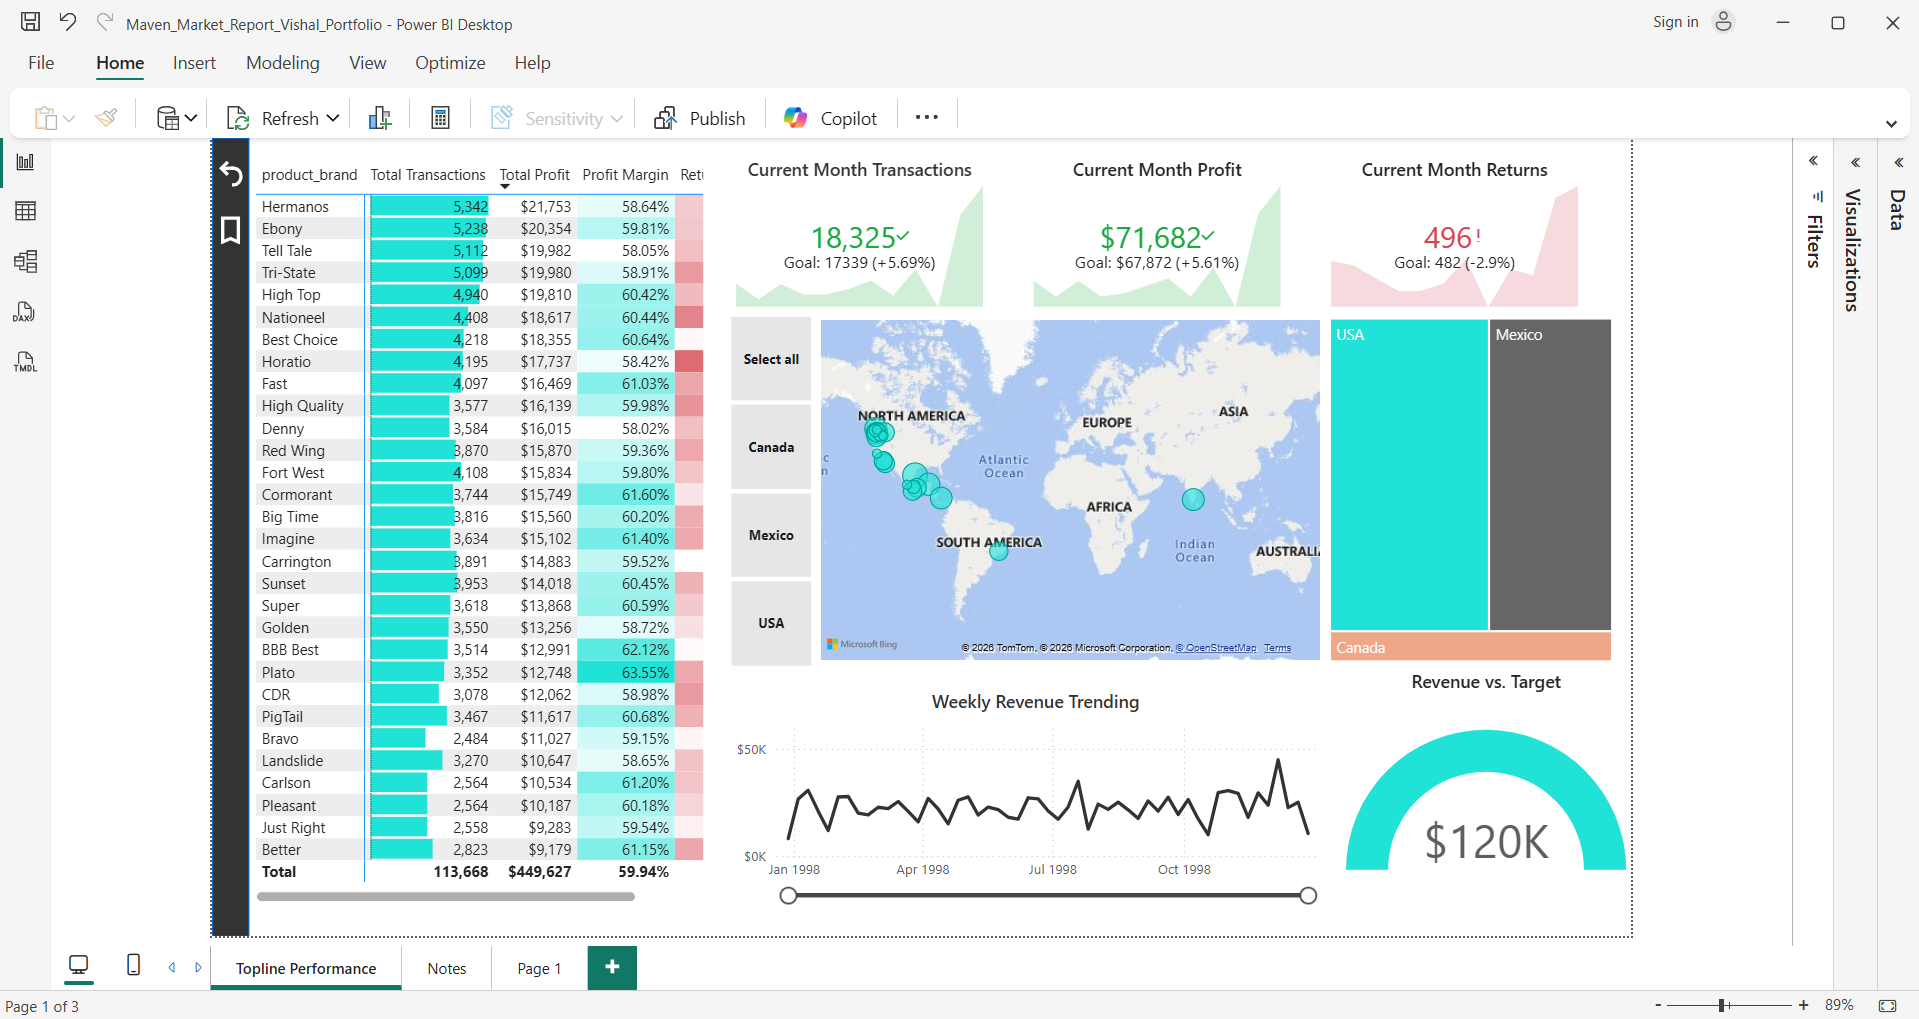

What the dashboard file says about the page in this screenshot:
{"tool":"powerbi","page":{"name":"Topline Performance","canvas":[1280,720],"ordinal":0},"visuals":[{"type":"pivotTable","fields":{"Rows":["Products.product_brand"],"Values":["Measure Table.Total Transactions","Measure Table.Total Profit","Measure Table.Profit Margin","Measure Table.Return Rate"]},"box":[34.8,17.4,413,676.7],"z":1000},{"type":"kpi","title":"Current Month Transactions","fields":{"Goal":["Measure Table.Last Month Transactions"],"Indicator":["Measure Table.Total Transactions"],"TrendLine":["Calendar.Start of Month"]},"box":[467.7,17.4,232.6,140.6],"z":2000},{"type":"kpi","title":"Current Month Profit","fields":{"Goal":["Measure Table.Last Month Profit"],"Indicator":["Measure Table.Total Profit"],"TrendLine":["Calendar.Start of Month"]},"box":[735.8,17.4,232.6,140.6],"z":3000},{"type":"kpi","title":"Current Month Returns","fields":{"Goal":["Measure Table.Last Month Returns"],"Indicator":["Measure Table.Total Returns"],"TrendLine":["Calendar.Start of Month"]},"box":[1003.9,17.4,232.6,140.6],"z":4000},{"type":"map","fields":{"Category":["Stores.store_city"],"Size":["Measure Table.Total Transactions"]},"box":[544.9,159.2,459,317.2],"z":5000},{"type":"slicer","fields":{"Values":["Stores.store_country"]},"box":[447.8,159.2,112,318.5],"z":6000},{"type":"treemap","fields":{"Group":["Stores.store_country","Stores.store_state","Stores.store_city"],"Values":["Measure Table.Total Transactions"]},"box":[1003.9,159.2,262.5,317.2],"z":7000},{"type":"lineChart","title":"Weekly Revenue Trending","fields":{"Category":["Calendar.Start of Week"],"Y":["Measure Table.Total Revenue"]},"box":[467.7,496.3,549.8,197.8],"z":8000},{"type":"gauge","title":"Revenue vs. Target","fields":{"MaxValue":["Measure Table.Revenue Target"],"Y":["Measure Table.Total Revenue"]},"box":[1017.6,477.7,262.5,216.4],"z":9000},{"type":"shape","box":[0,0,33.6,720.3],"z":10000},{"type":"actionButton","box":[0,63.4,33.6,39.8],"z":11000},{"type":"actionButton","box":[1.2,16.2,33.6,32.3],"z":12000}]}

Visuals, with their boxes on the page's 1280x720 design canvas (x1, y1, x2, y2). These are canvas units, not pixel positions in the 1919x1019 screenshot, which may show the page scaled, cropped or inside an application window:
pivotTable - Products.product_brand x Measure Table.Total Transactions: 35:17:448:694
"Current Month Transactions" kpi: 468:17:700:158
"Current Month Profit" kpi: 736:17:968:158
"Current Month Returns" kpi: 1004:17:1236:158
map - Stores.store_city x Measure Table.Total Transactions: 545:159:1004:476
slicer - Stores.store_country: 448:159:560:478
treemap - Stores.store_country x Stores.store_state: 1004:159:1266:476
"Weekly Revenue Trending" lineChart: 468:496:1018:694
"Revenue vs. Target" gauge: 1018:478:1280:694
shape: 0:0:34:720
actionButton: 0:63:34:103
actionButton: 1:16:35:48
